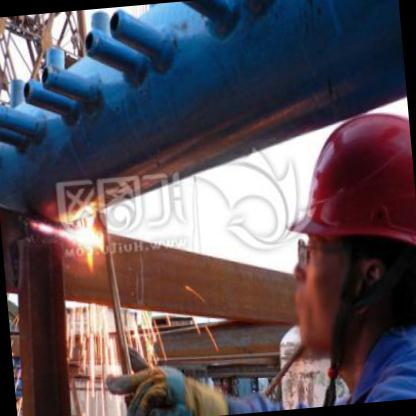helmet: (252, 67, 416, 381)
